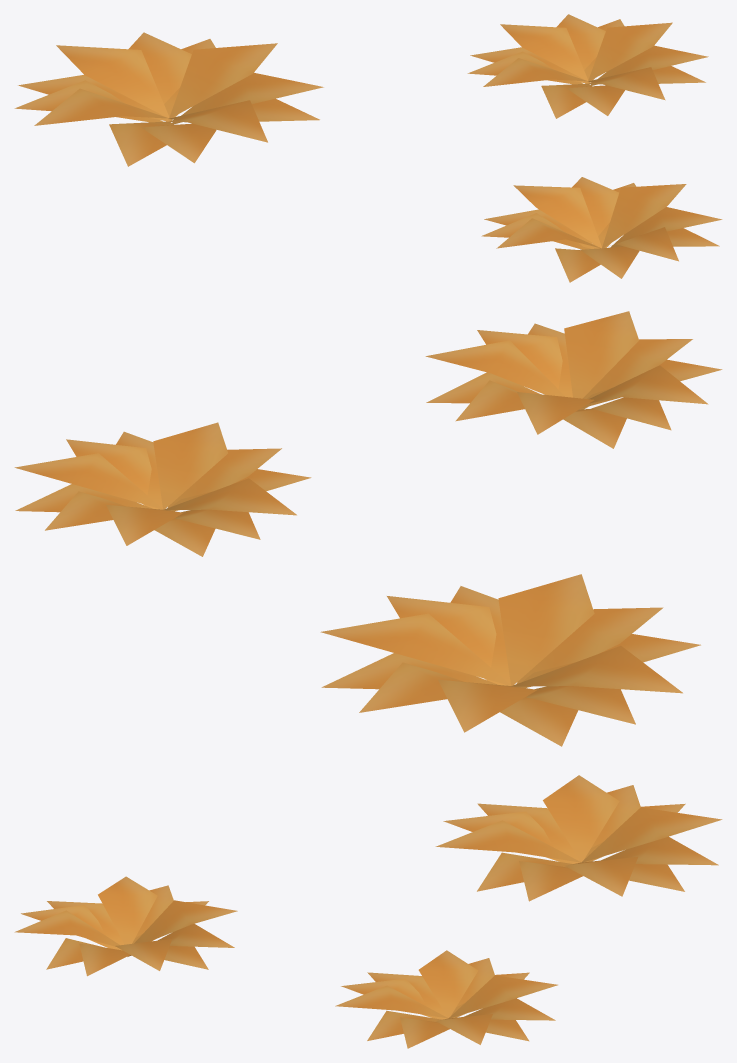
The model's file is YellowFlower.fbx.
3 views of the same model, one above another, from view 1: azimuth 30°, elevation 25°; view 2: azimuth 150°, elevation 25°; view 3: azimuth 270°, elevation 25° (orthographic). The views are drawn at different scales.
Parts seen in each view (by area): view 1: YellowFlower; view 2: YellowFlower; view 3: YellowFlower.
Part boxes in pixels (x1,y1,x2,y2): YellowFlower: [14, 14, 722, 282]; YellowFlower: [14, 311, 722, 746]; YellowFlower: [14, 775, 722, 1048].
Size of the model in its own units: 45.28 by 3.01 by 50.47.
